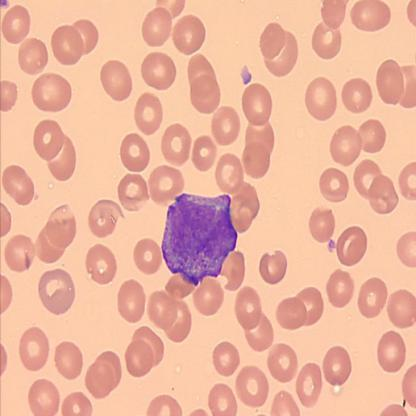Myelocyte: (162, 193, 236, 288)
